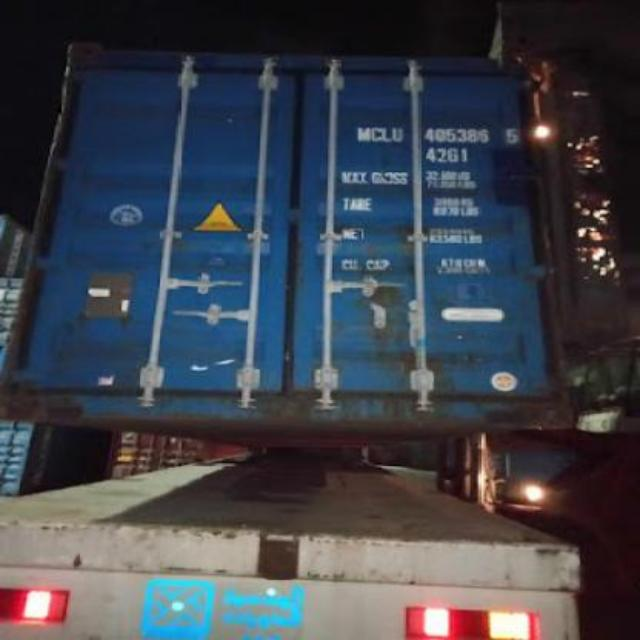0: (436, 118, 446, 146)
3: (458, 122, 468, 144)
4: (420, 121, 432, 142)
5: (500, 124, 520, 144), (446, 120, 456, 144)
6: (478, 120, 492, 144)
8: (466, 122, 478, 148)
C: (368, 119, 380, 143)
L: (378, 118, 390, 146)
M: (352, 121, 370, 142)
U: (391, 122, 404, 144)
